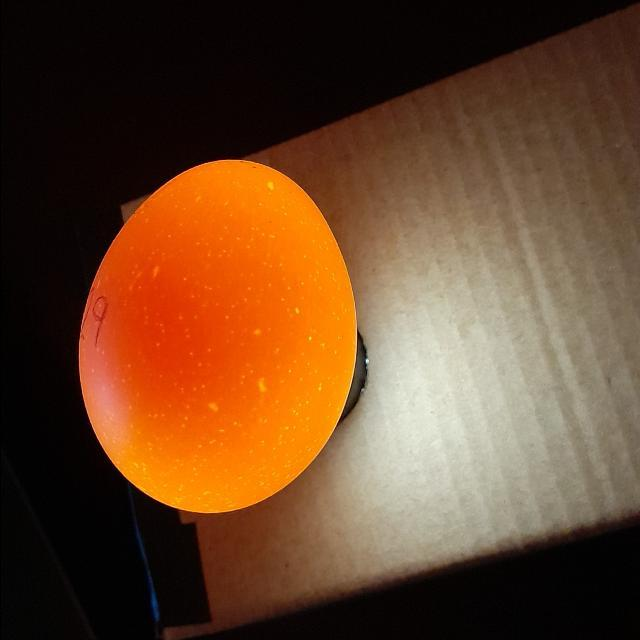AA - Premium: (79, 171, 367, 521)
